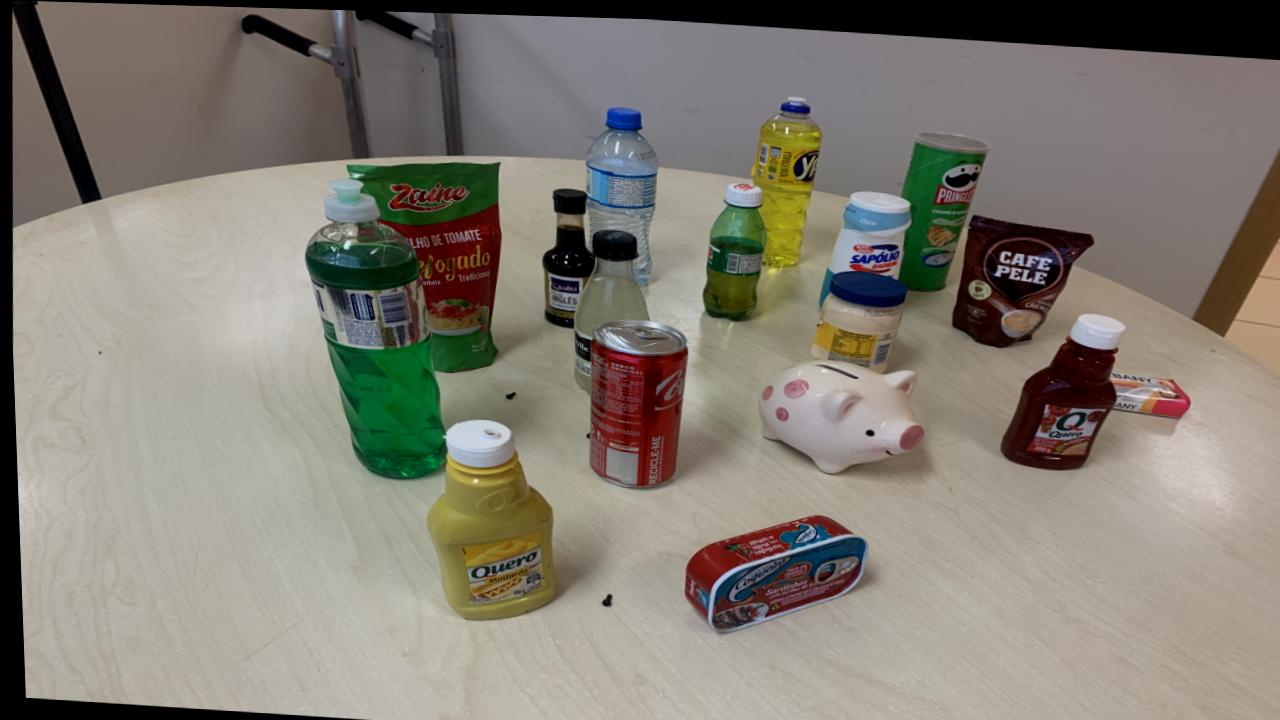Cleaner-Cleanup_Items: (816, 186, 909, 300)
Coffee-Pantry_Items: (951, 210, 1092, 341)
Coke-Drinks: (585, 315, 686, 485)
Detergent-Cleanup_Items: (303, 175, 442, 477), (749, 93, 822, 263)
English_Sauce-Pantry_Items: (541, 184, 594, 323)
Guarana-Drinks: (701, 178, 764, 316)
Ketchup-Pantry_Items: (998, 306, 1124, 464)
Mayonnaise-Pantry_Items: (808, 266, 904, 368)
Mustard-Pantry_Items: (424, 417, 552, 617)
Pig_Safe-Miscellaneous: (755, 355, 920, 468)
Pringles-Snacks: (899, 127, 987, 285)
Soap-Cleanup_Items: (1108, 364, 1188, 411)
Soda-Drinks: (571, 226, 646, 388)
Tomato_Sauce-Pantry_Items: (346, 159, 499, 369)
Tuna_Can-Pantry_Items: (679, 510, 865, 628)
Water_Bottle-Drinks: (584, 103, 657, 281)
